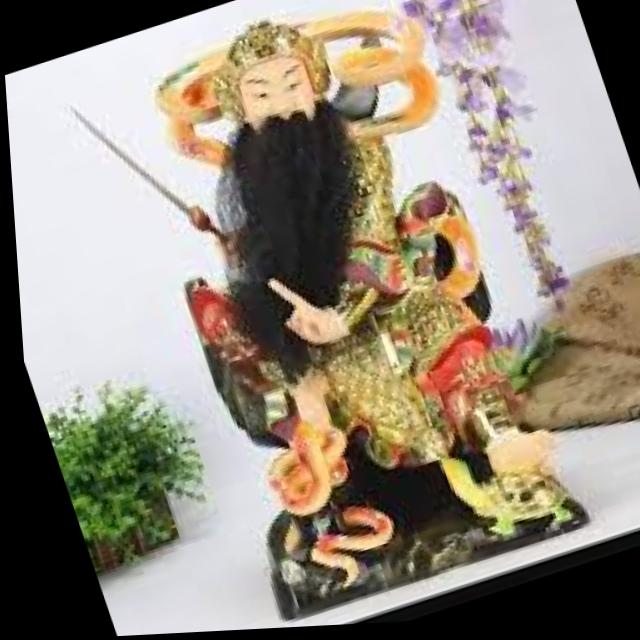Xuan wu: (101, 0, 542, 552)
